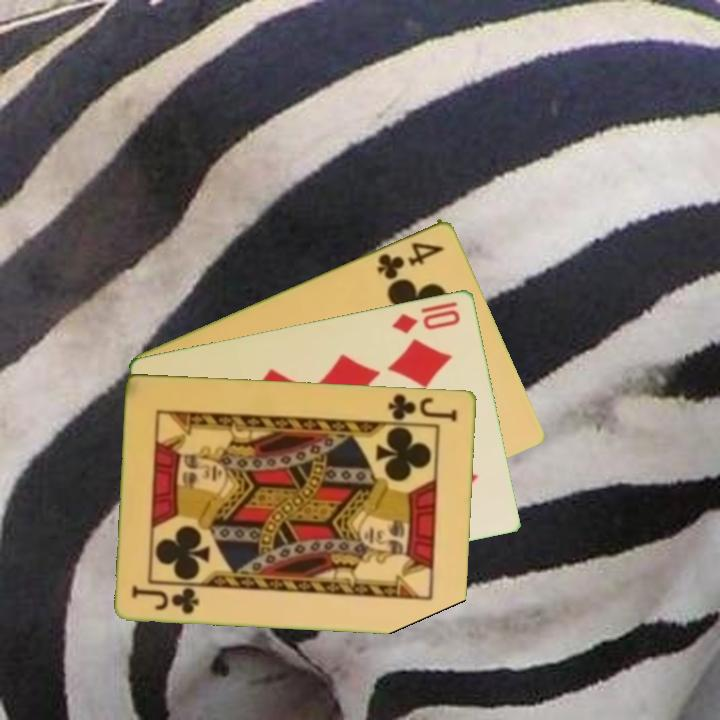10d: (388, 305, 464, 336)
4c: (374, 237, 447, 281)
Jc: (128, 582, 203, 617), (385, 390, 461, 424)
